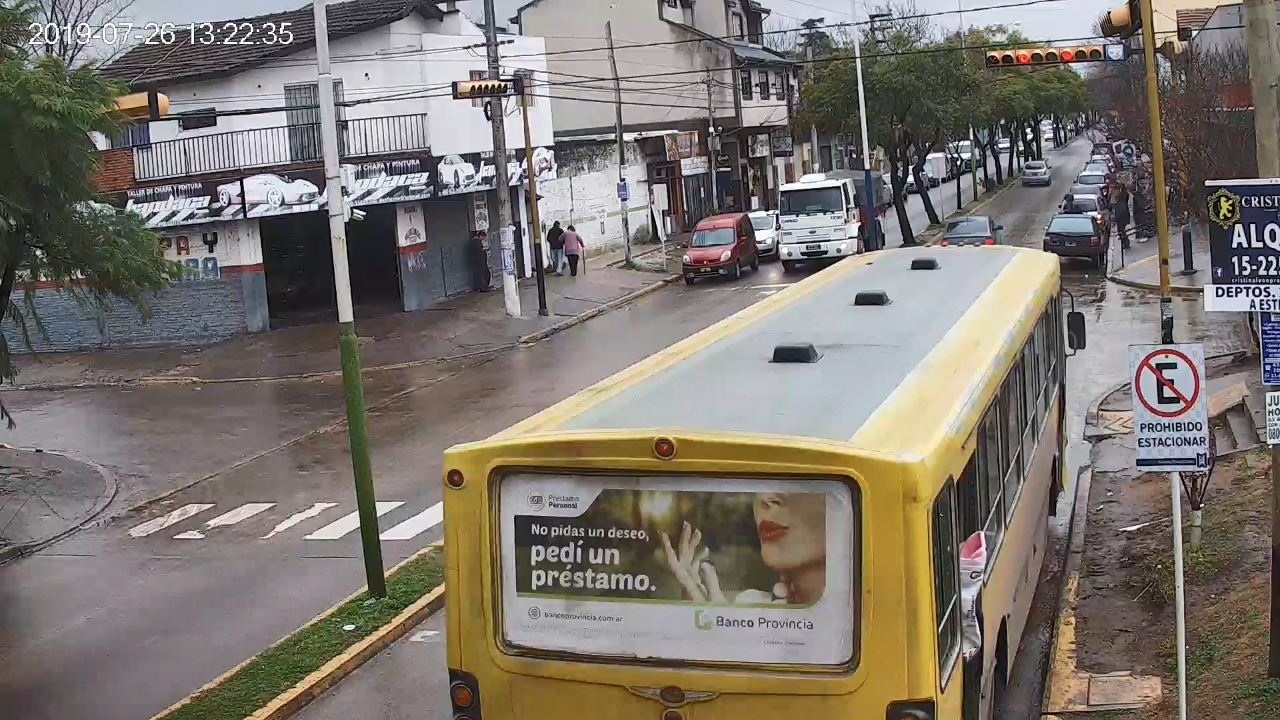bus: (444, 242, 1086, 720)
traffic light: (1016, 48, 1102, 64)
